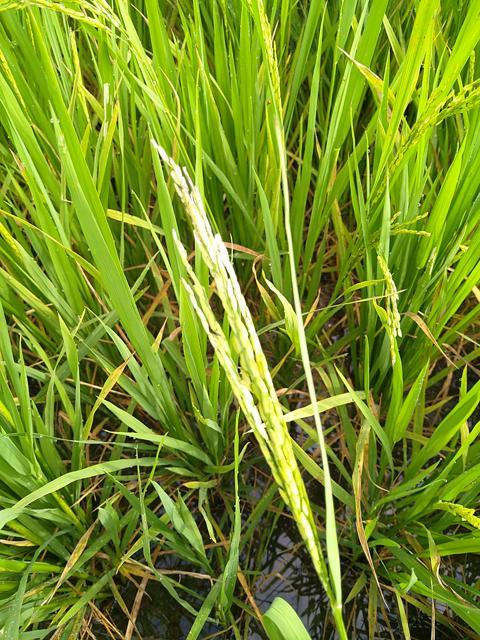Panicle Blight: (238, 384, 267, 437)
